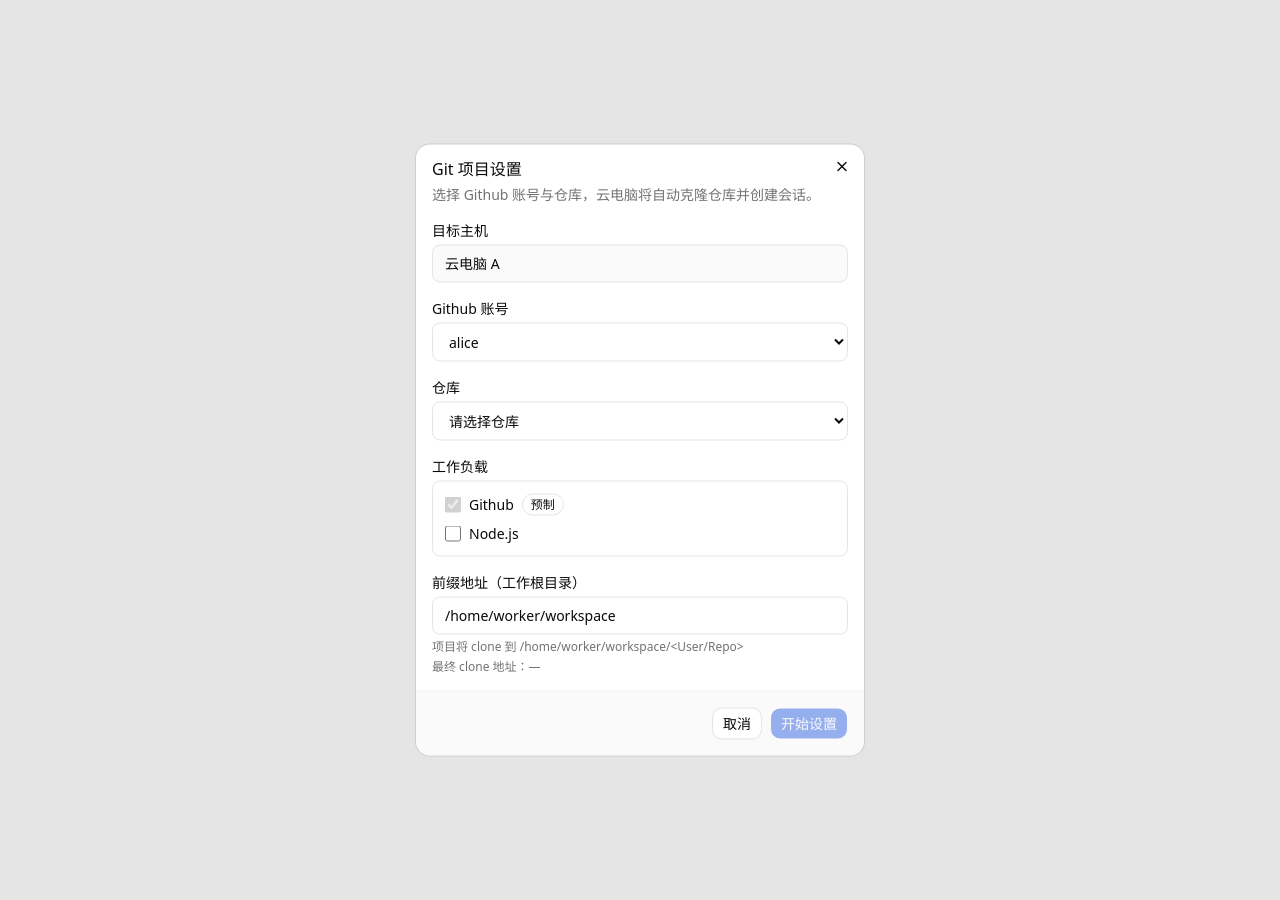
Scenario: GithubProjectSetupDialog › 服务端错误原样展示
Check: the dropdown labelled "Github 账号" shows "alice", box x1=432 y1=322 x2=848 y2=362
Select "alice/repo-a" in the dropdown labelled "仓库": (640, 421) x1=432 y1=402 x2=848 y2=440
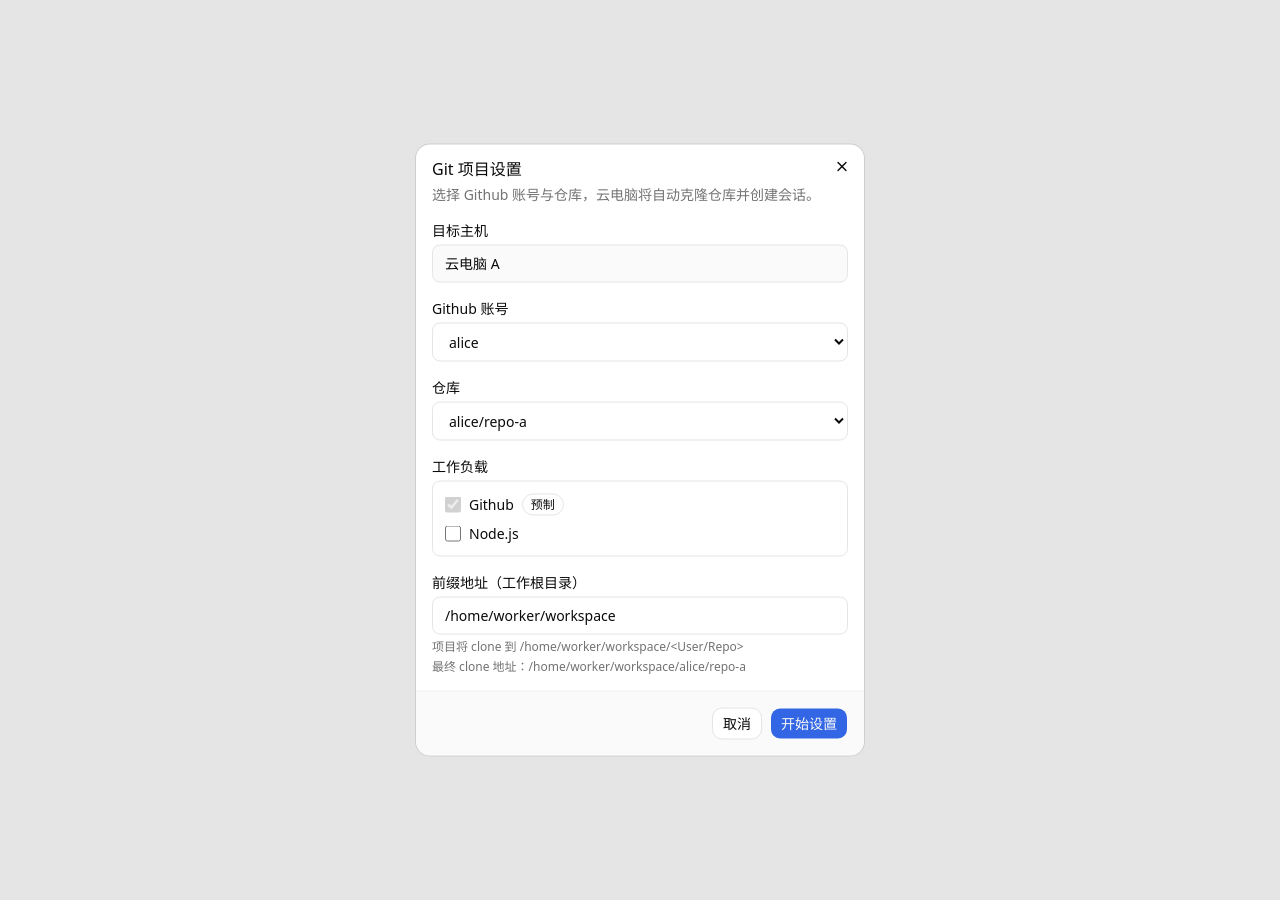
Click the button "开始设置": (809, 724) x1=770 y1=708 x2=848 y2=740
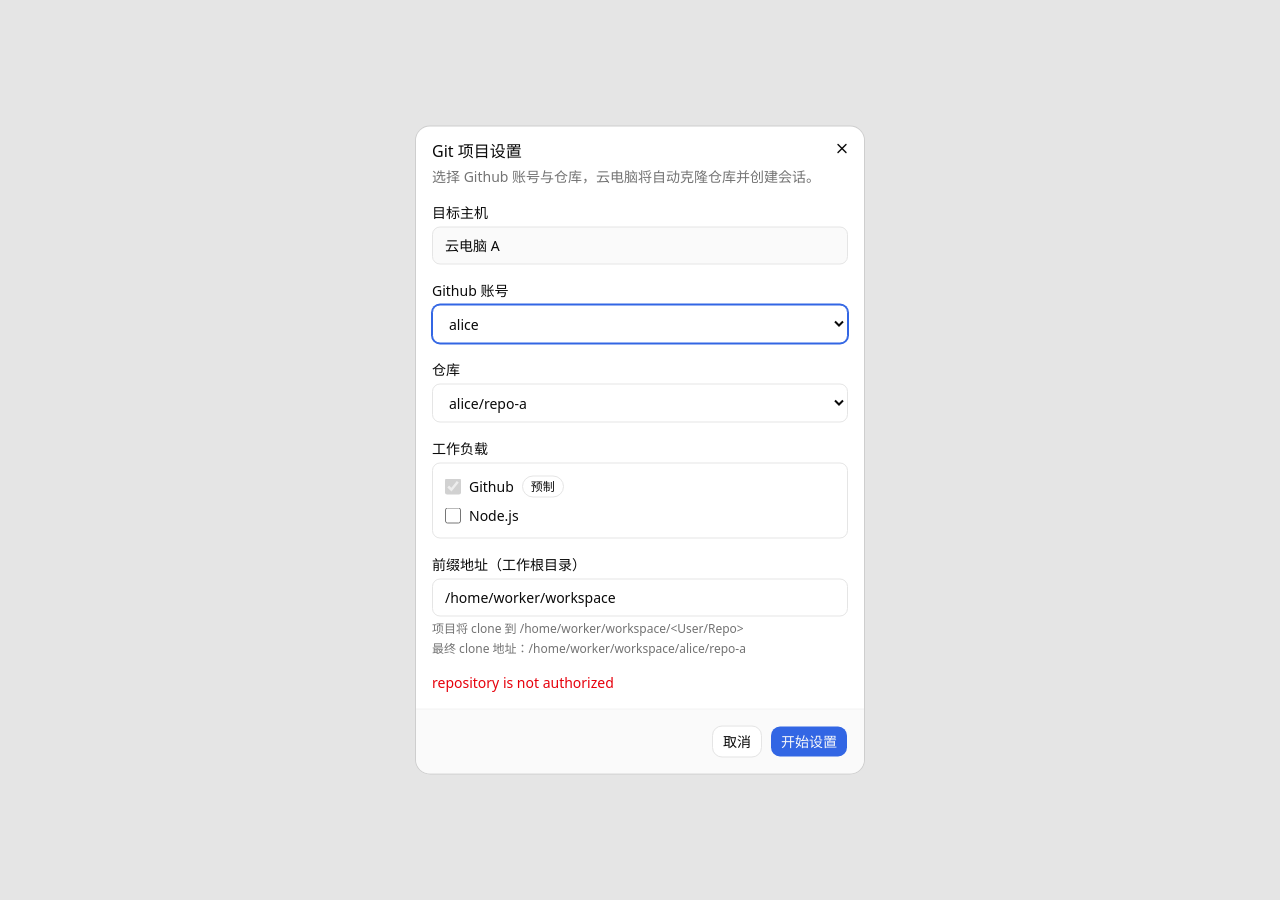
Check: the message reads "repository is not authorized", box x1=432 y1=672 x2=614 y2=692
